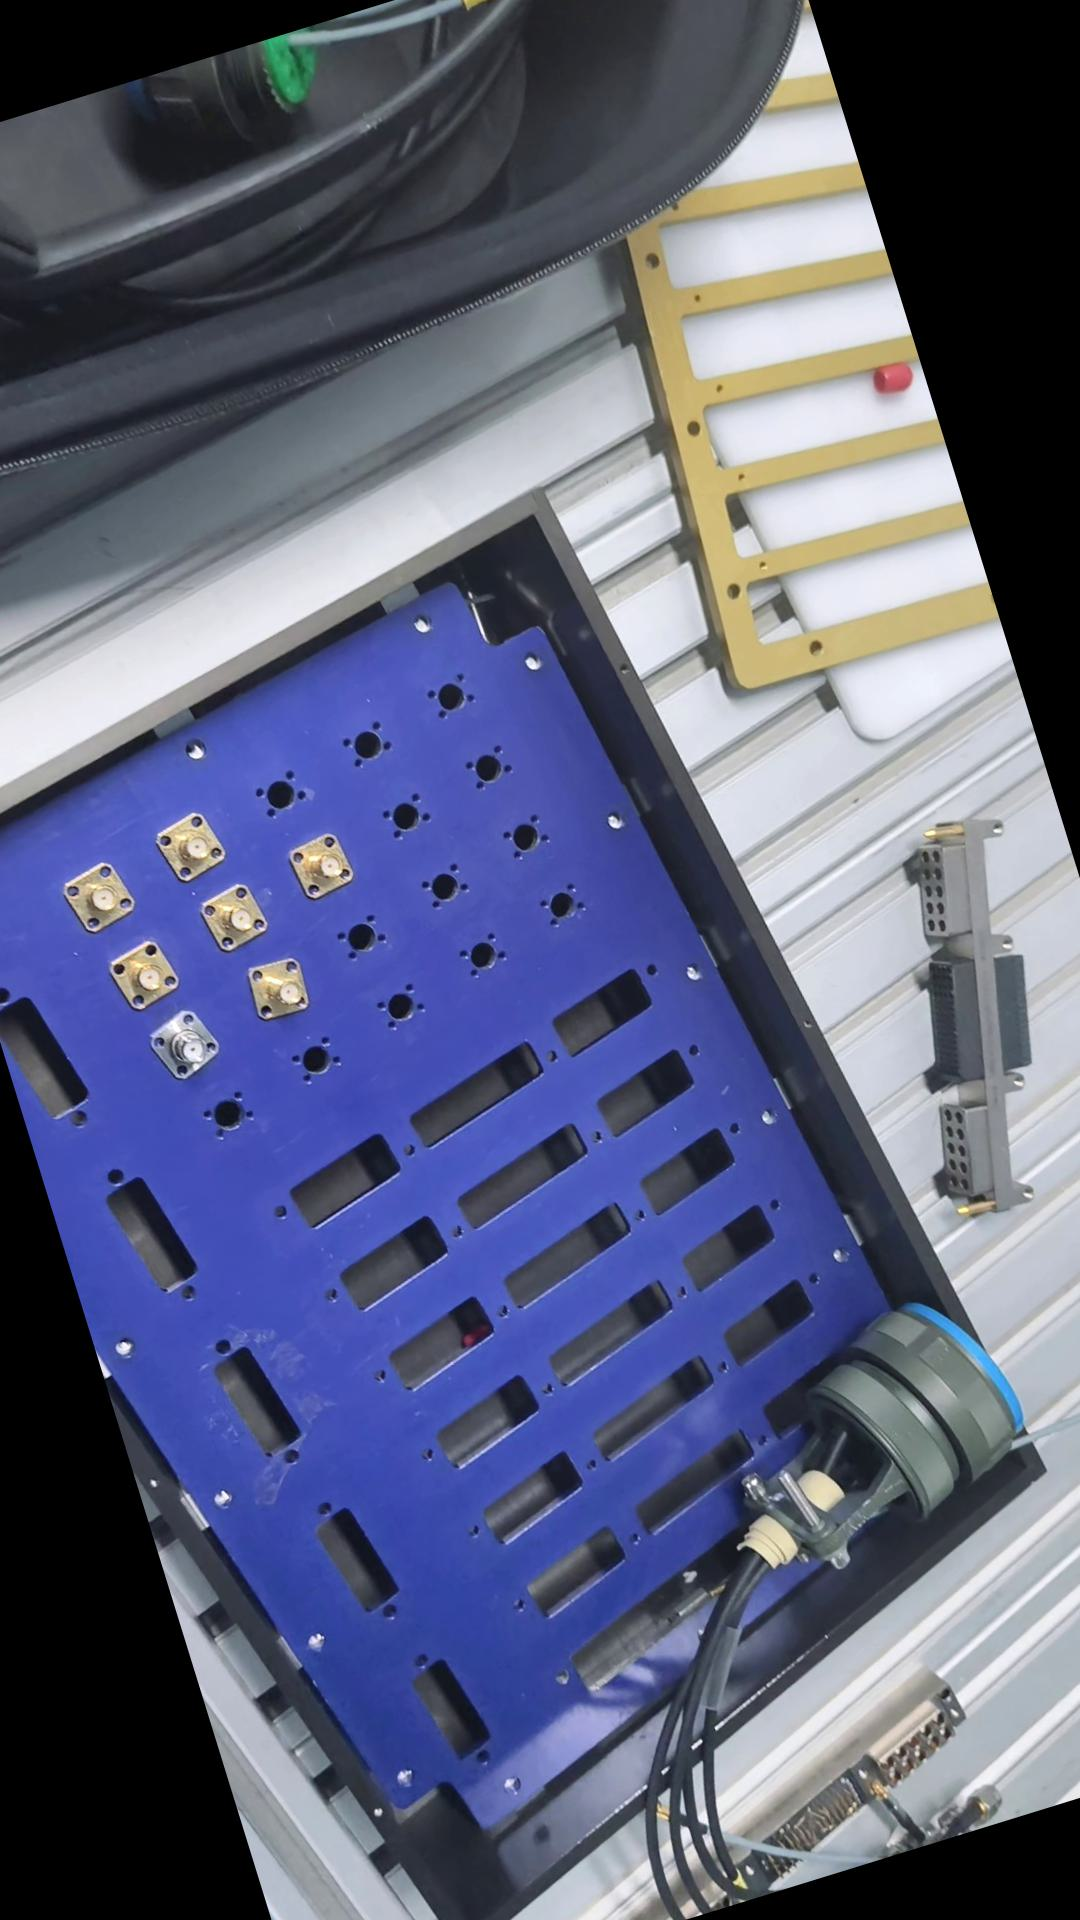SMA: (144, 997, 231, 1088), (107, 930, 193, 1011), (58, 856, 141, 939), (194, 876, 278, 956), (244, 948, 324, 1026), (156, 807, 233, 884), (287, 829, 365, 905)
